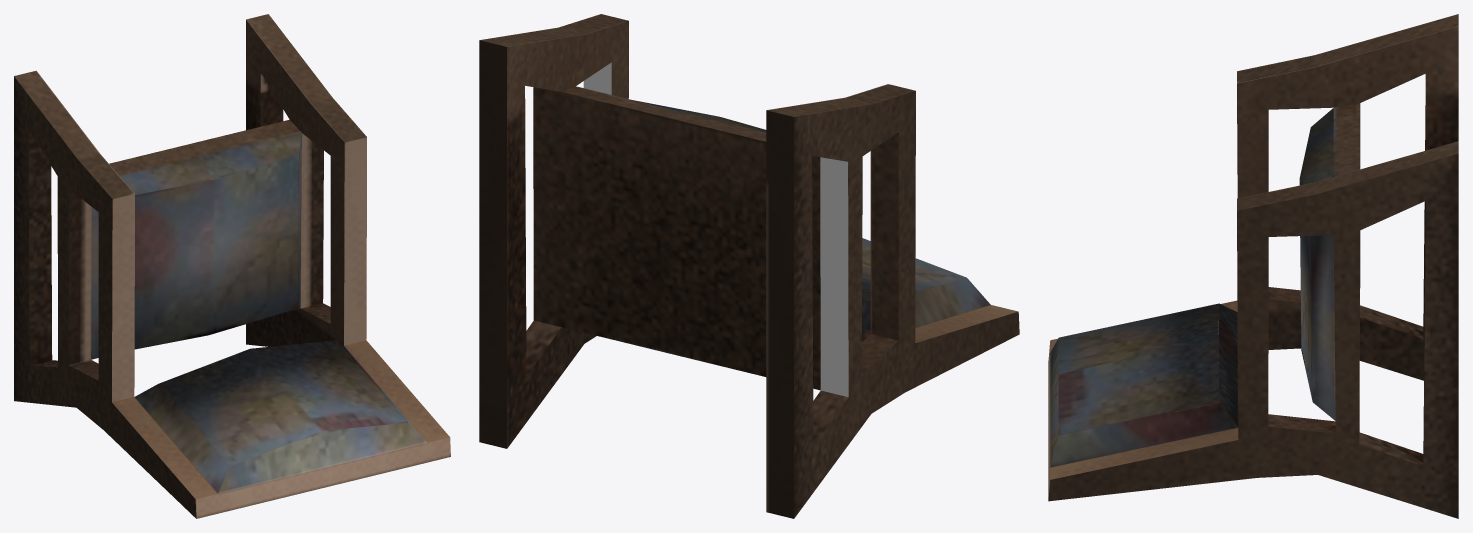
File: officechair.glb
The picture shows the model from 3 angles, left to right: view 1: azimuth 30°, elevation 25°; view 2: azimuth 150°, elevation 25°; view 3: azimuth 270°, elevation 25°; orthographic projection. The views are drawn at different scales.
Parts seen in each view (by area): view 1: Cube; view 2: Cube; view 3: Cube.
Boxes of the visible parts, x1,y1,x2,y2 form: Cube: (14, 14, 450, 518); Cube: (479, 14, 1019, 518); Cube: (1048, 14, 1458, 518).
Size of the model in its own units: 1.64 by 2 by 2.03.
Materials: 2 (1 with a texture image).
